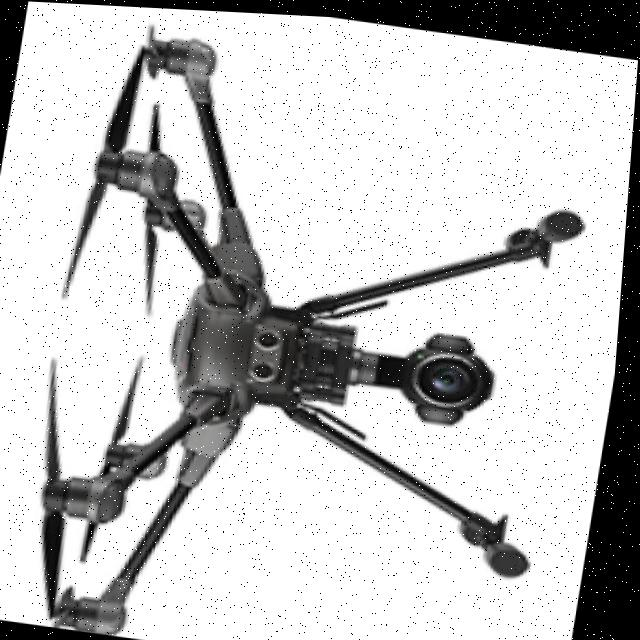drones: (0, 1, 640, 640)
